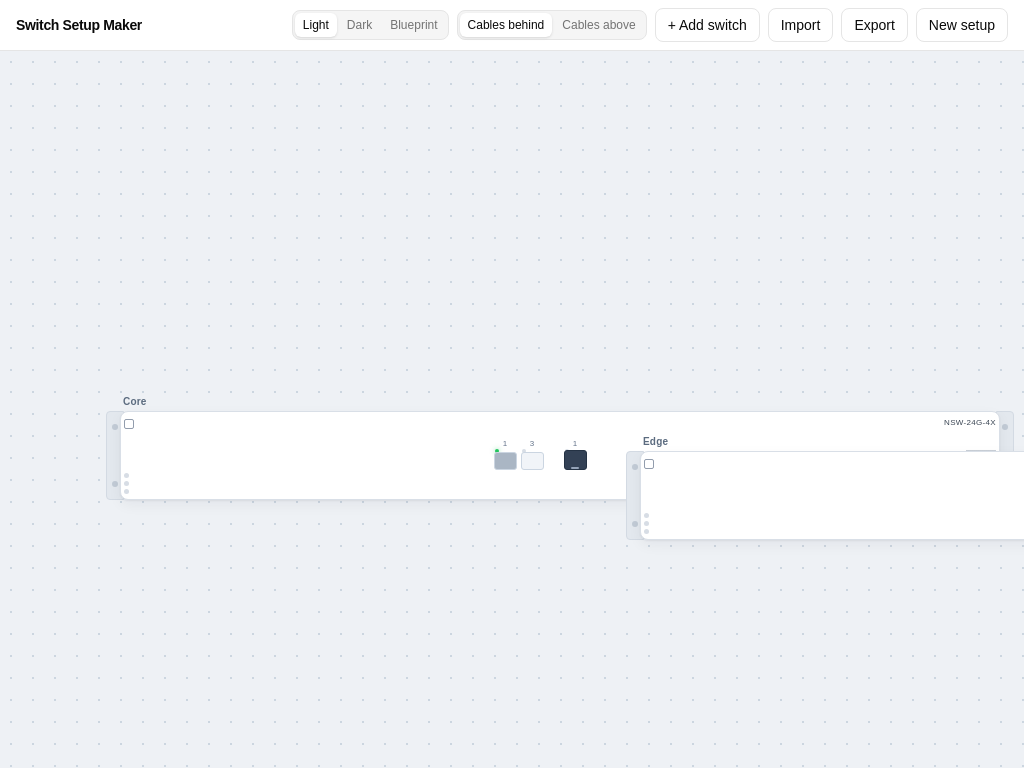
Scenario: new setup › clears the setup after confirming and writes the empty document back to storage
The width and height of the screenshot is (1024, 768).
Click the button "New setup": (962, 25) [916,8,1008,42]
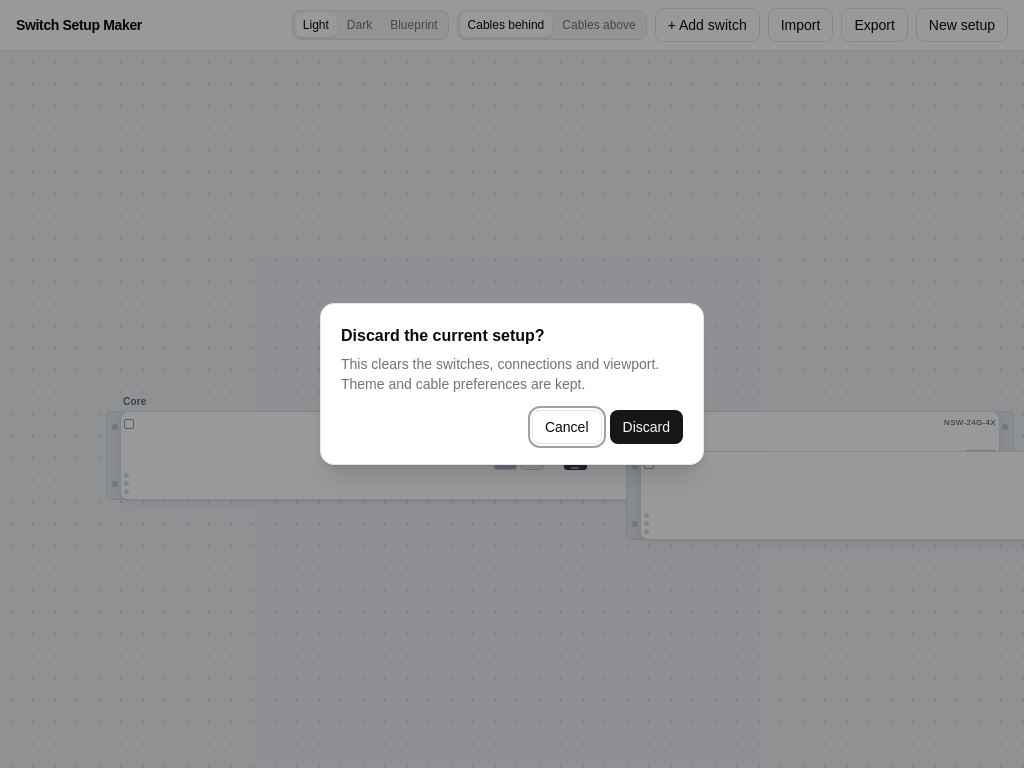
Click the button "Discard": (646, 427) [610,410,683,444]
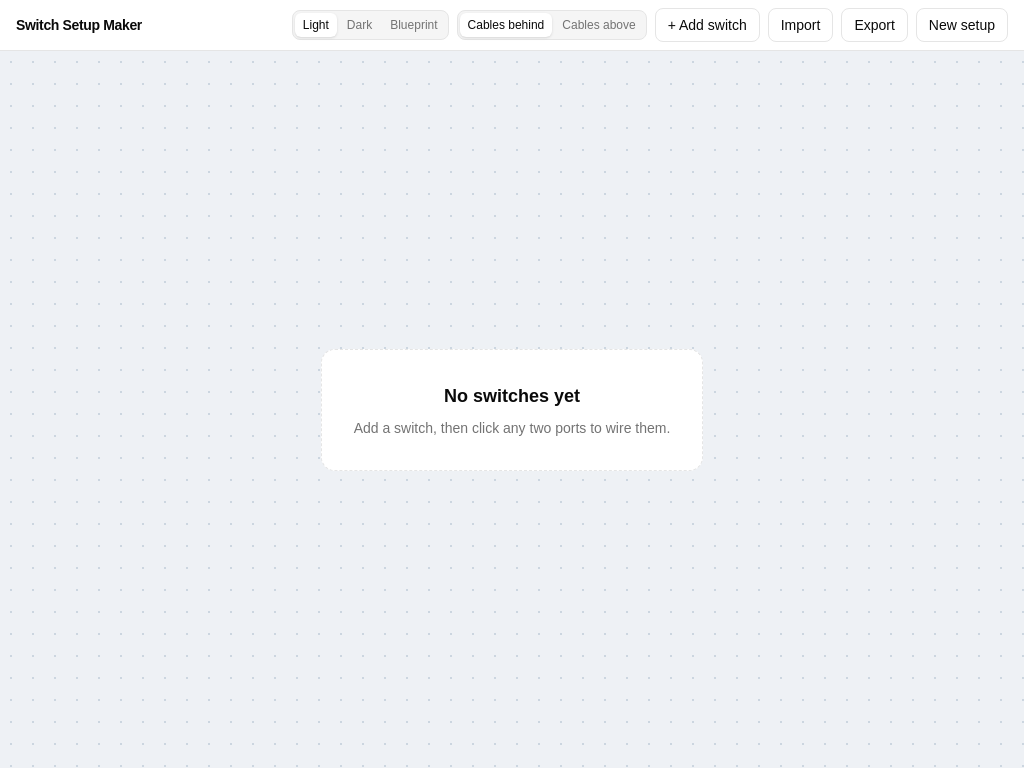
Result: the heading "No switches yet" is shown at [444,386,580,406]
